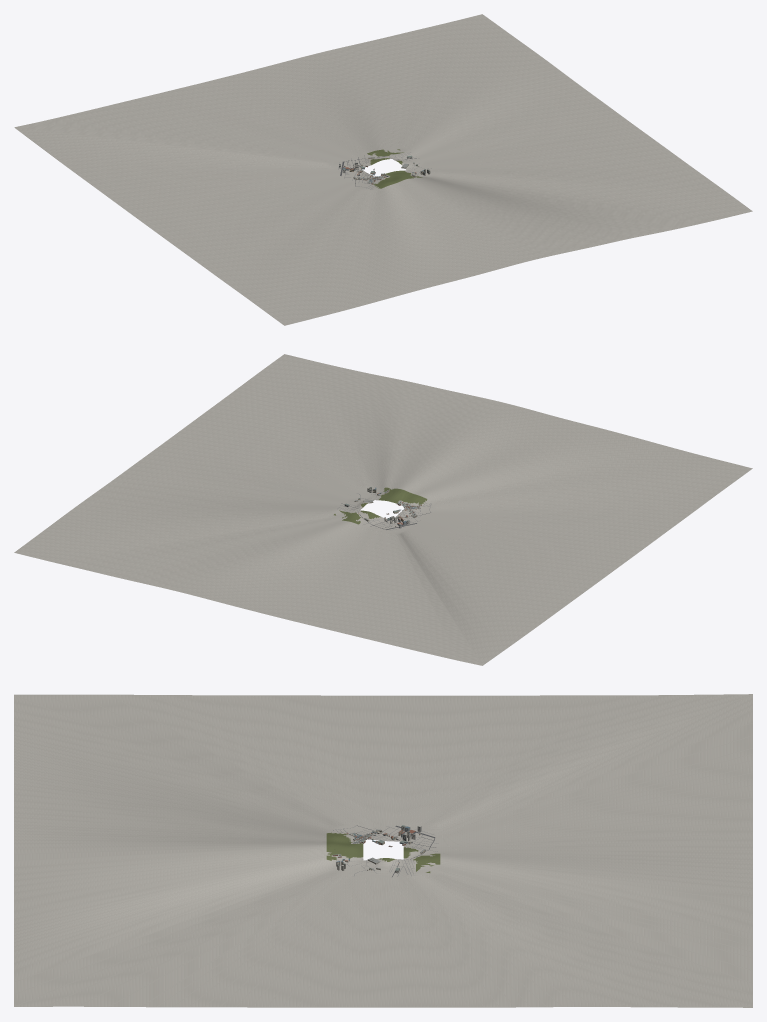
3 views of the same model, one above another, from view 1: azimuth 30°, elevation 25°; view 2: azimuth 150°, elevation 25°; view 3: azimuth 270°, elevation 25° (orthographic). The views are drawn at different scales.
Parts seen in each view (by area): view 1: ctx-ground; view 2: ctx-ground, ctx-buildings; view 3: ctx-ground, ctx-buildings.
Boxes of the visible parts, bbox=[...] form: ctx-ground: bbox=[14, 14, 752, 325]; ctx-ground: bbox=[14, 354, 752, 665]; ctx-buildings: bbox=[344, 487, 421, 528]; ctx-ground: bbox=[14, 694, 752, 1007]; ctx-buildings: bbox=[332, 825, 425, 873].
Size of the model in its own units: 7600 by 93.57 by 7600.
Materials: 16 (14 with a texture image).
